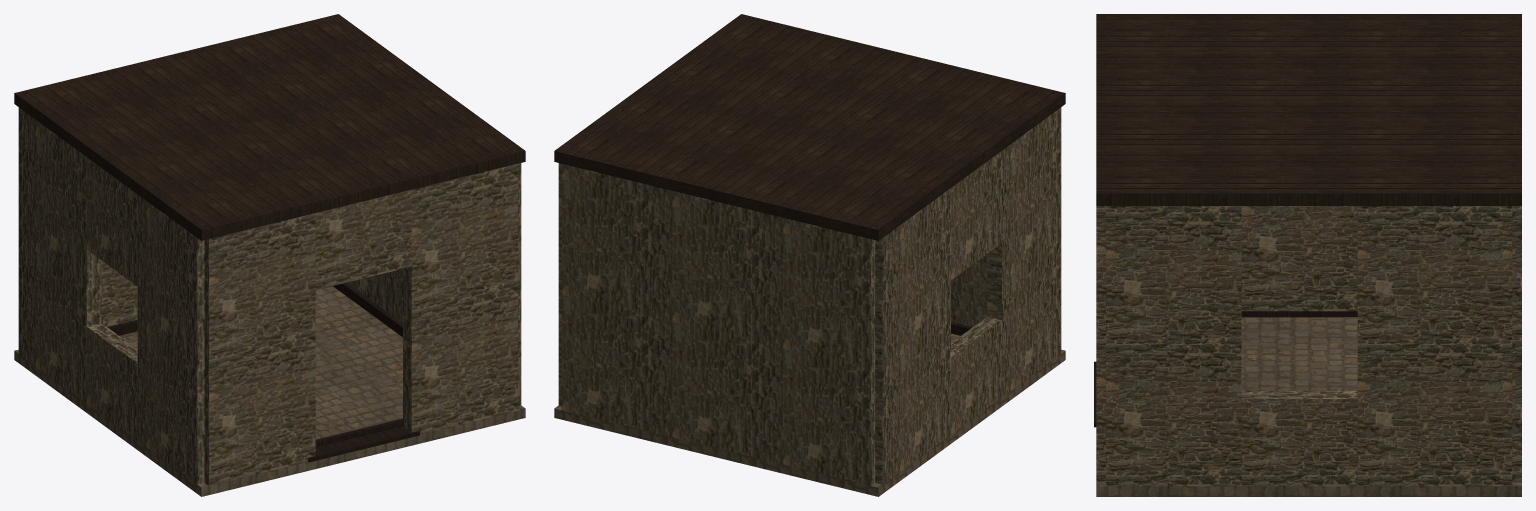
Rendered from int_stone_tower_01.glb.
3 renders of one model, left to right at view 1: azimuth 30°, elevation 25°; view 2: azimuth 150°, elevation 25°; view 3: azimuth 270°, elevation 25°, orthographic. The views are drawn at different scales.
Visible parts, largest first — view 1: int_stone_tower_01; view 2: int_stone_tower_01; view 3: int_stone_tower_01.
Part boxes in pixels (x1=…): int_stone_tower_01: x1=14, y1=14, x2=525, y2=496; int_stone_tower_01: x1=554, y1=14, x2=1065, y2=496; int_stone_tower_01: x1=1094, y1=14, x2=1521, y2=496.
Size of the model in its own units: 4.4 by 3.46 by 4.42.
5 materials, 5 textured.
